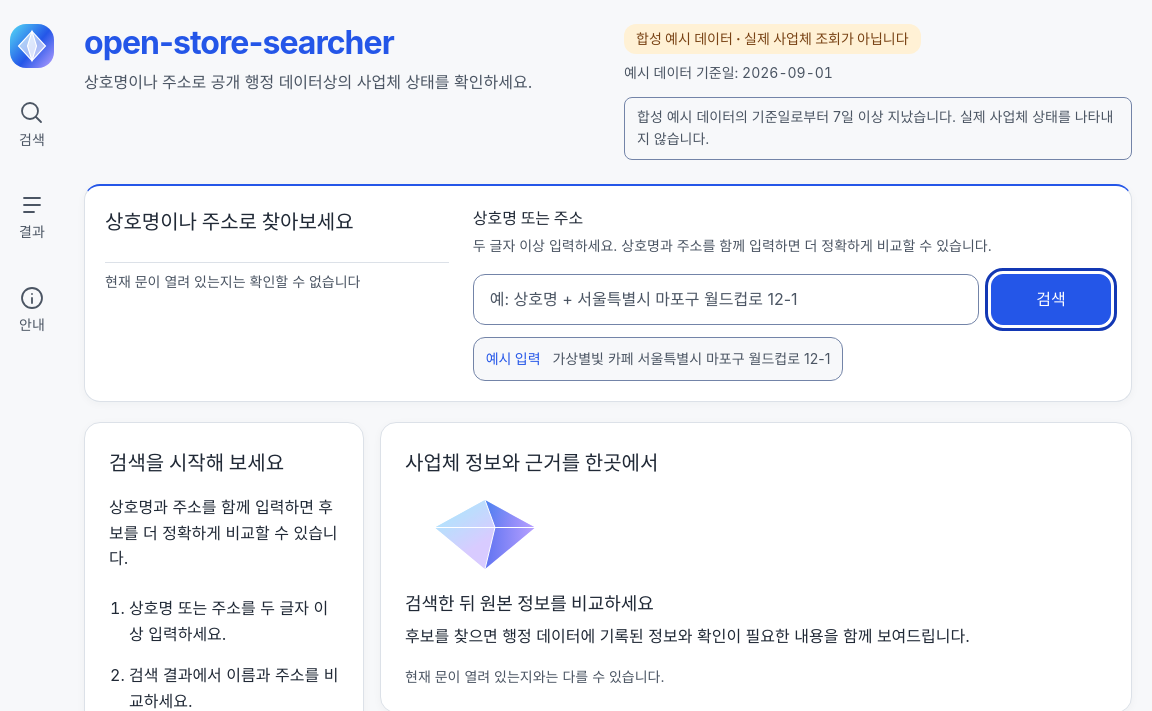
Test case: TASK-027 candidate inspection › auto-inspects only a unique primary without stealing submission focus
Type "가상별빛 카페 서울특별시 마포구 월드컵로 12-1" into the search field.
click(726, 299); type("가상별빛 카페 서울특별시 마포구 월드컵로 12-1")  # box x1=473 y1=274 x2=979 y2=325
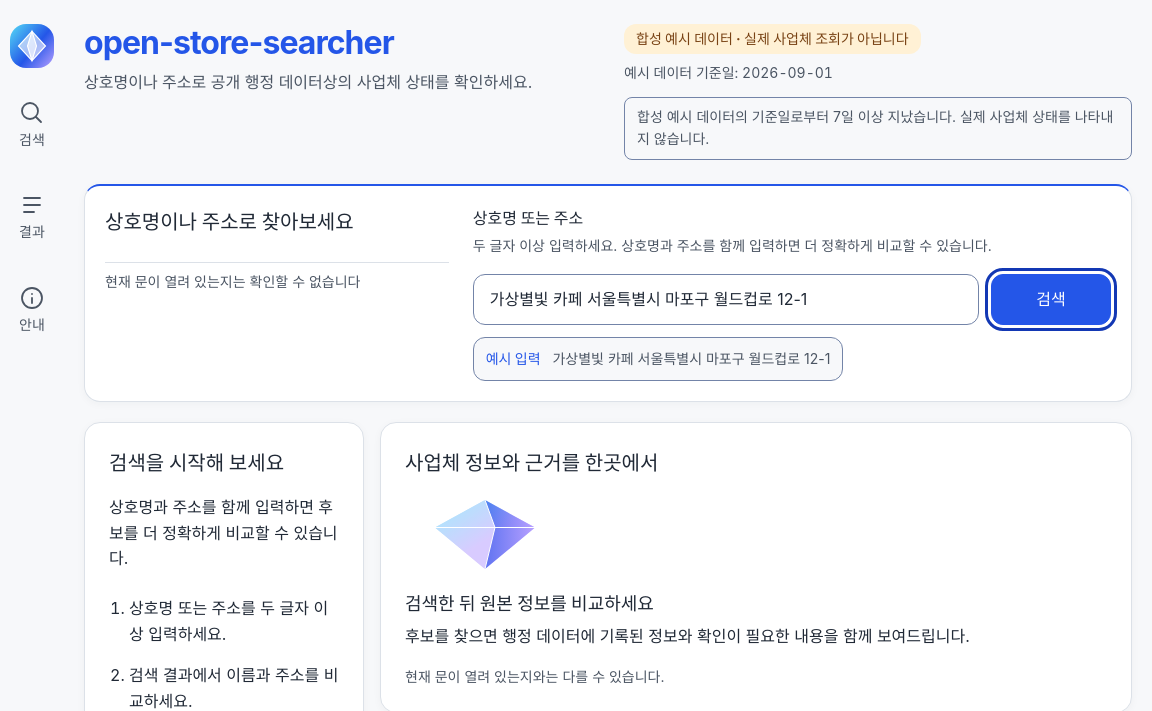
Submit the form, box x1=473 y1=206 x2=1111 y2=381
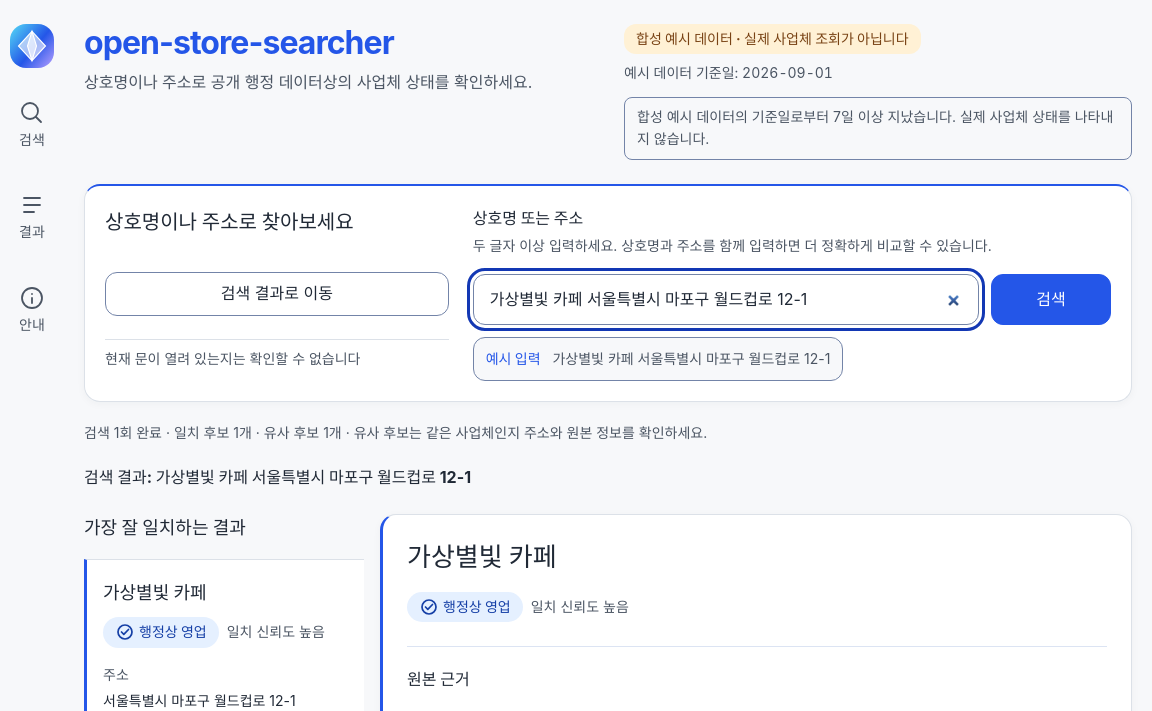
Expected: the 1st heading "가상별빛 카페" is shown, x1=407 y1=541 x2=557 y2=572
Expected: the 1st element with class "status-badge" reads "행정상 영업", x1=443 y1=598 x2=511 y2=614
